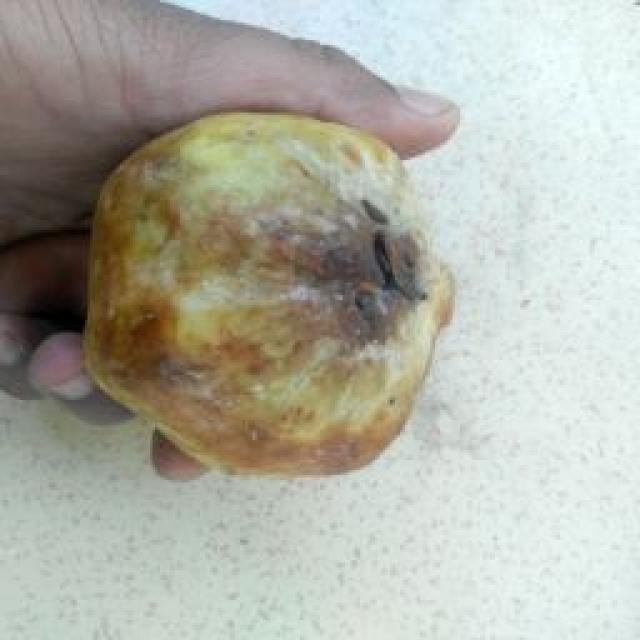Bad_Guava: (86, 114, 452, 473)
